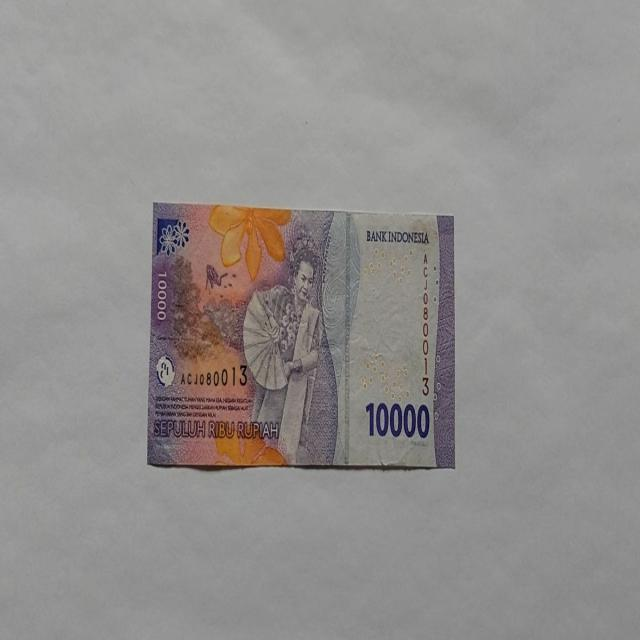sepuluh ribu rupiah: (147, 202, 456, 470), (242, 239, 341, 466)
